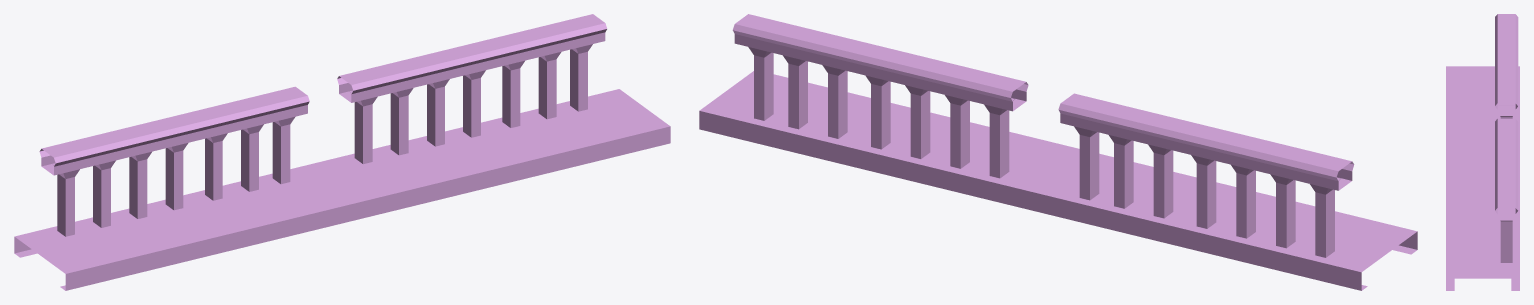
File: Museum_renfort_07.fbx
3 renders of one model, left to right at view 1: azimuth 30°, elevation 25°; view 2: azimuth 150°, elevation 25°; view 3: azimuth 270°, elevation 25°, orthographic. The views are drawn at different scales.
Parts seen in each view (by area): view 1: Archi_Renforts.007; view 2: Archi_Renforts.007; view 3: Archi_Renforts.007.
Part boxes in pixels (box(x1,y1,x2,y2)): Archi_Renforts.007: box(14, 14, 670, 290); Archi_Renforts.007: box(699, 14, 1417, 290); Archi_Renforts.007: box(1446, 14, 1519, 290).
Size of the model in its own units: 514 by 82.28 by 75.38.
